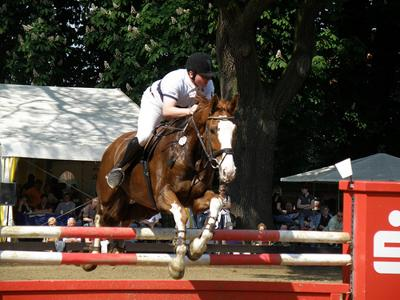person: (105, 56, 218, 190)
